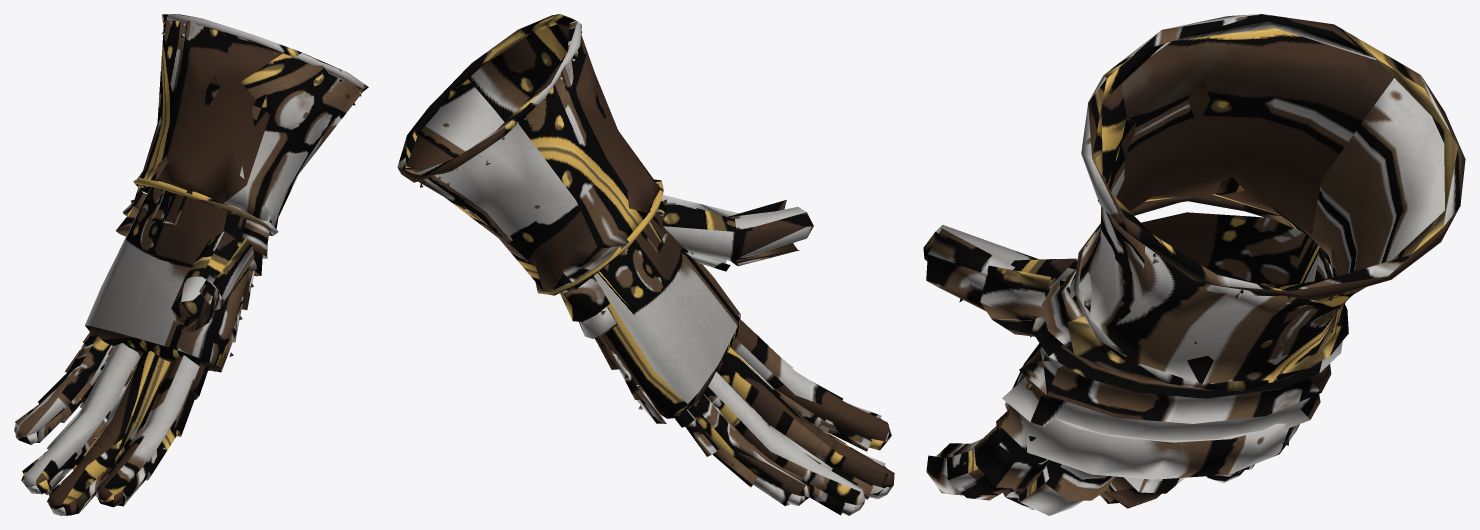
The model's file is SM_EagleGauntlets_R_LOD3.fbx.
3 views of the same model, side by side, from view 1: azimuth 30°, elevation 25°; view 2: azimuth 150°, elevation 25°; view 3: azimuth 270°, elevation 25° (orthographic). The views are drawn at different scales.
Visible parts, largest first — view 1: SM_EagleGauntlets_R_LOD3; view 2: SM_EagleGauntlets_R_LOD3; view 3: SM_EagleGauntlets_R_LOD3.
Part boxes in pixels (x1,y1,x2,y2): SM_EagleGauntlets_R_LOD3: (14,14,368,515); SM_EagleGauntlets_R_LOD3: (397,14,894,515); SM_EagleGauntlets_R_LOD3: (923,14,1465,515).
Bounding box in the file's own units: 0.259 × 0.2721 × 0.2026.
